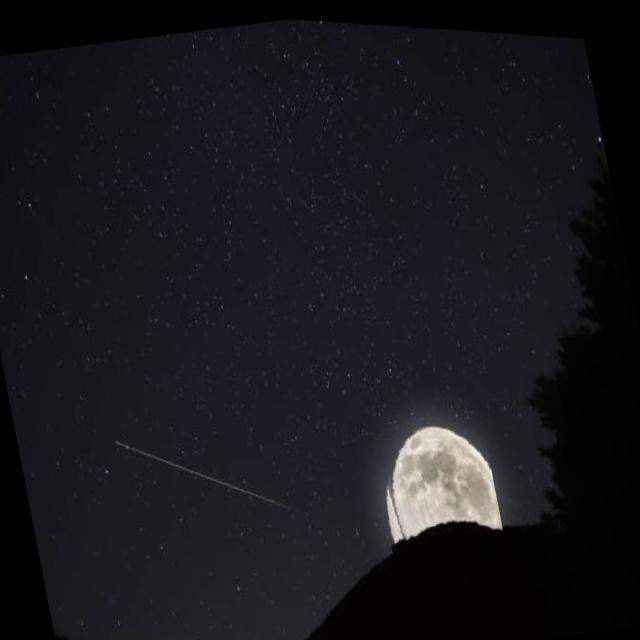moon: (371, 407, 509, 576)
